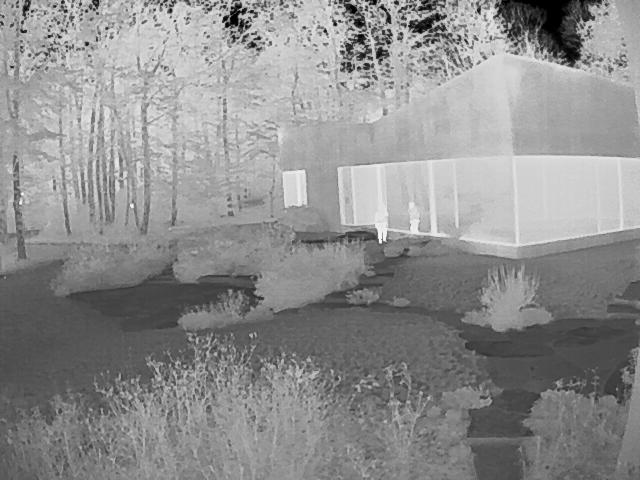person: (374, 198, 391, 243), (409, 198, 421, 232)
